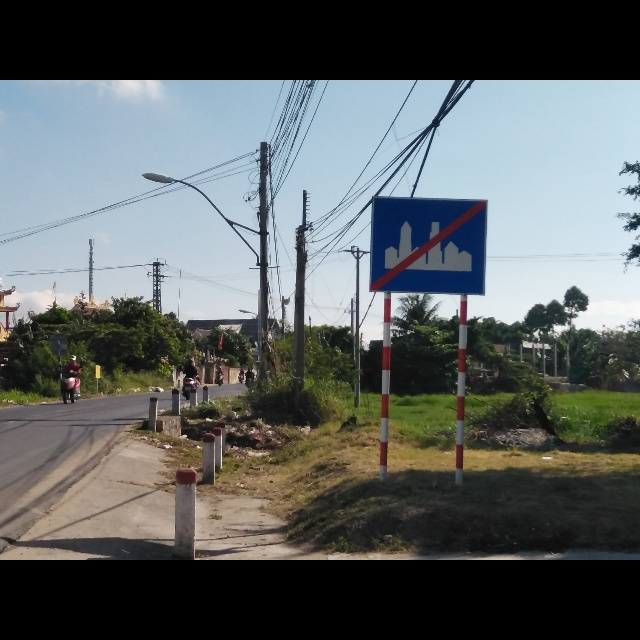Hết khu đông dân cư: (370, 195, 487, 296)
